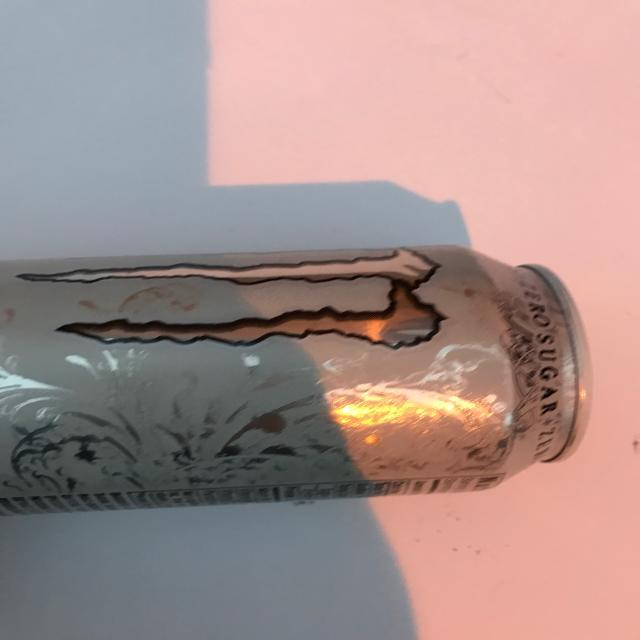metal: (1, 242, 596, 520)
